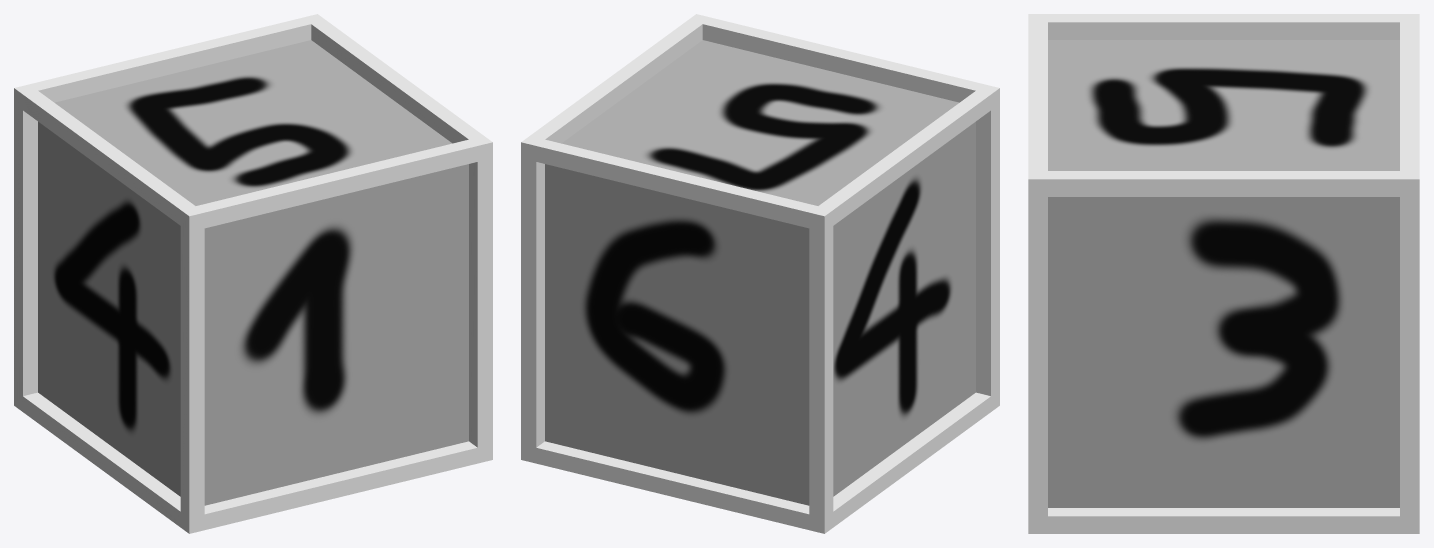
3 views of the same model, side by side, from view 1: azimuth 30°, elevation 25°; view 2: azimuth 150°, elevation 25°; view 3: azimuth 270°, elevation 25° (orthographic). The views are drawn at different scales.
Visible parts, largest first — view 1: patate; view 2: patate; view 3: patate.
Part boxes in pixels (left/top/right/bottom): patate: left=14, top=14, right=492, bottom=533; patate: left=521, top=14, right=999, bottom=533; patate: left=1028, top=14, right=1419, bottom=533.
Bounding box in the file's own units: 2 × 2 × 2.
Materials: 2 (1 with a texture image).
